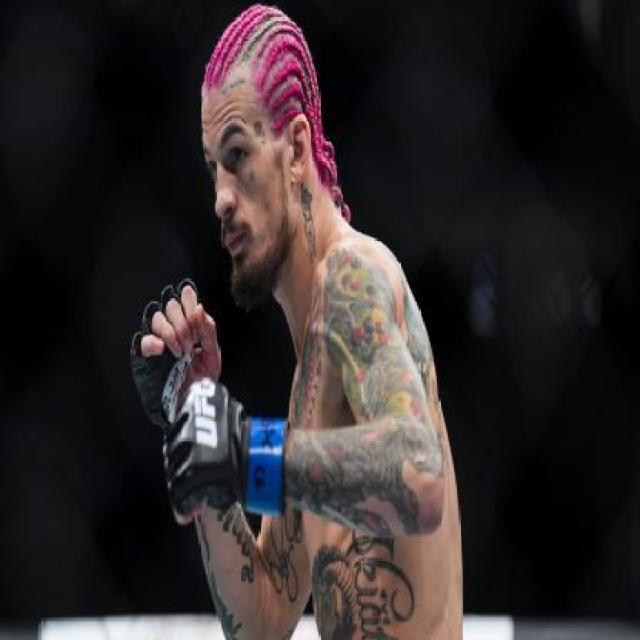fight: (112, 14, 531, 640)
